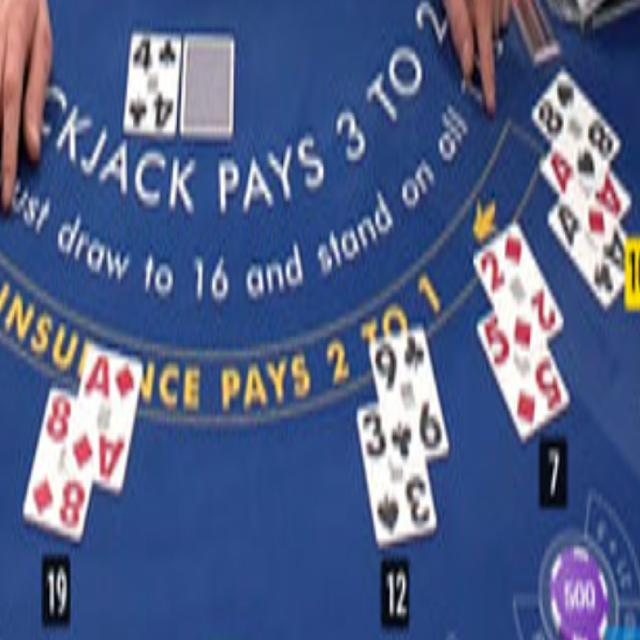Card-2: (474, 217, 563, 365)
Card-3: (357, 400, 436, 540)
Card-4: (123, 28, 180, 135)
Card-5: (477, 308, 569, 438)
Card-8: (531, 65, 620, 192), (23, 384, 91, 537)
Card-9: (369, 326, 448, 470)
Card-A: (65, 343, 142, 488), (548, 197, 637, 310), (540, 144, 630, 249)
